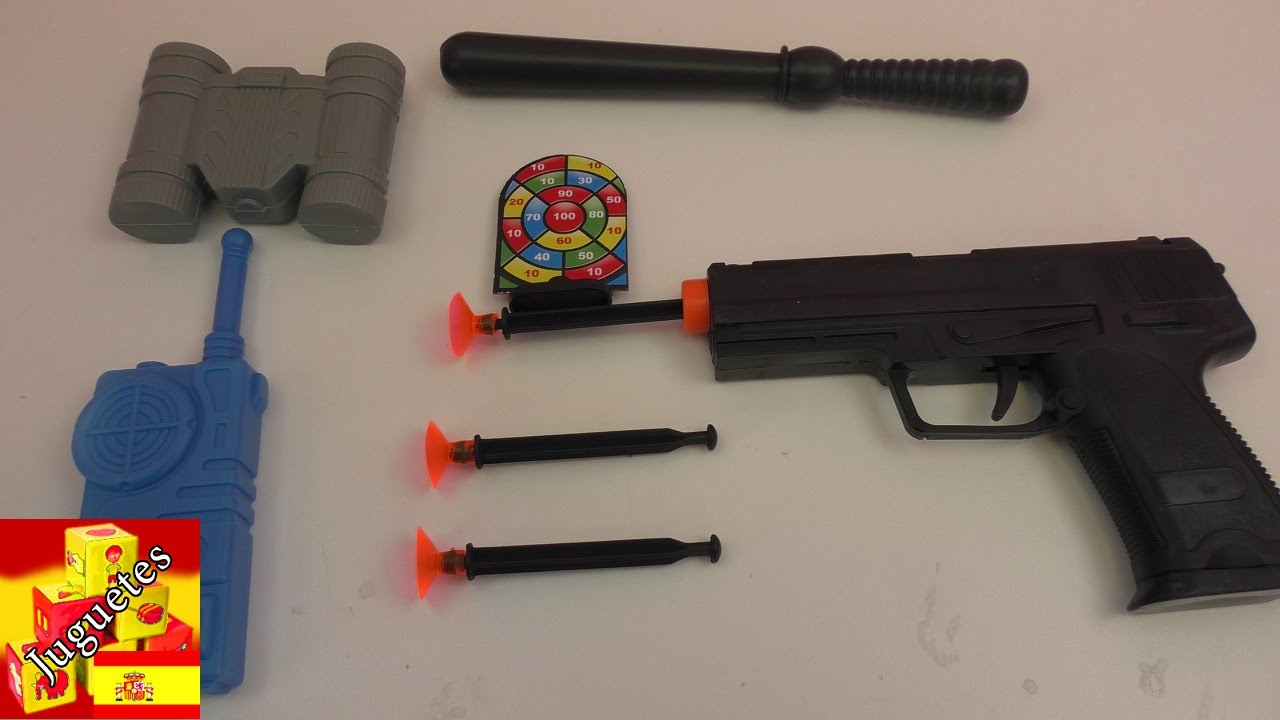Arma Falsa: (677, 230, 1280, 609)
